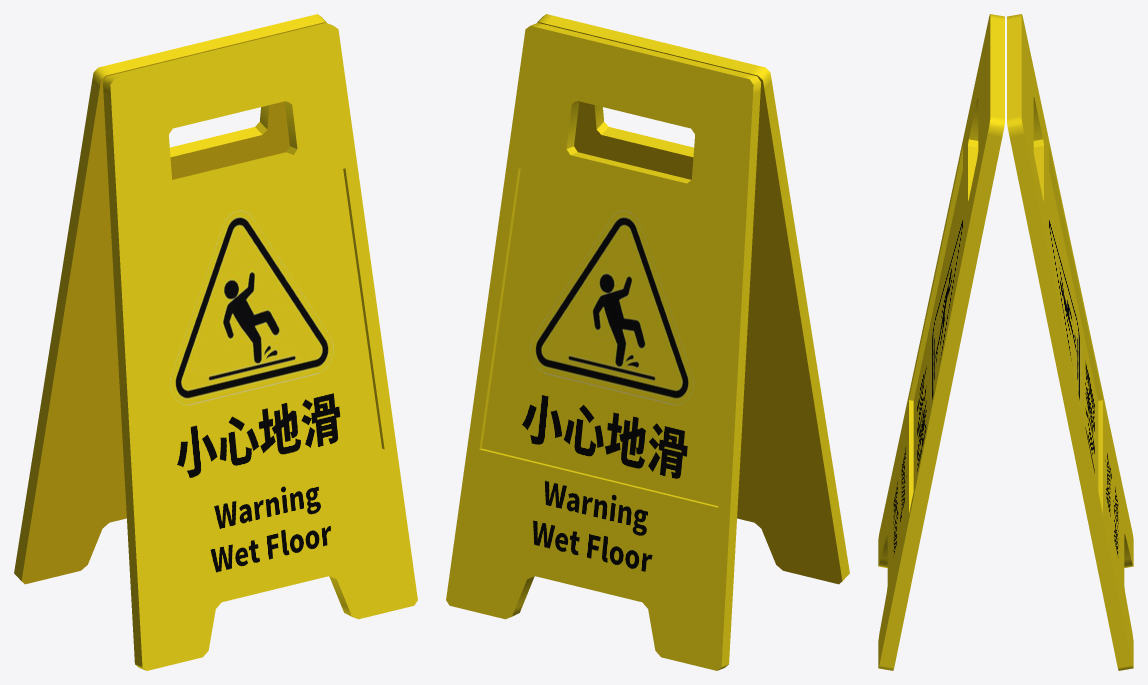
The model's file is 小心地滑.fbx.
The picture shows the model from 3 angles, left to right: view 1: azimuth 30°, elevation 25°; view 2: azimuth 150°, elevation 25°; view 3: azimuth 270°, elevation 25°; orthographic projection.
Visible parts, largest first — view 1: xiaoxindihua; view 2: xiaoxindihua; view 3: xiaoxindihua.
Boxes of the visible parts, bbox=[...] form: xiaoxindihua: bbox=[14, 14, 417, 670]; xiaoxindihua: bbox=[446, 14, 849, 670]; xiaoxindihua: bbox=[878, 14, 1133, 670].
Bounding box in the file's own units: 158 × 300 × 129.
Materials: 3 (2 with a texture image).
